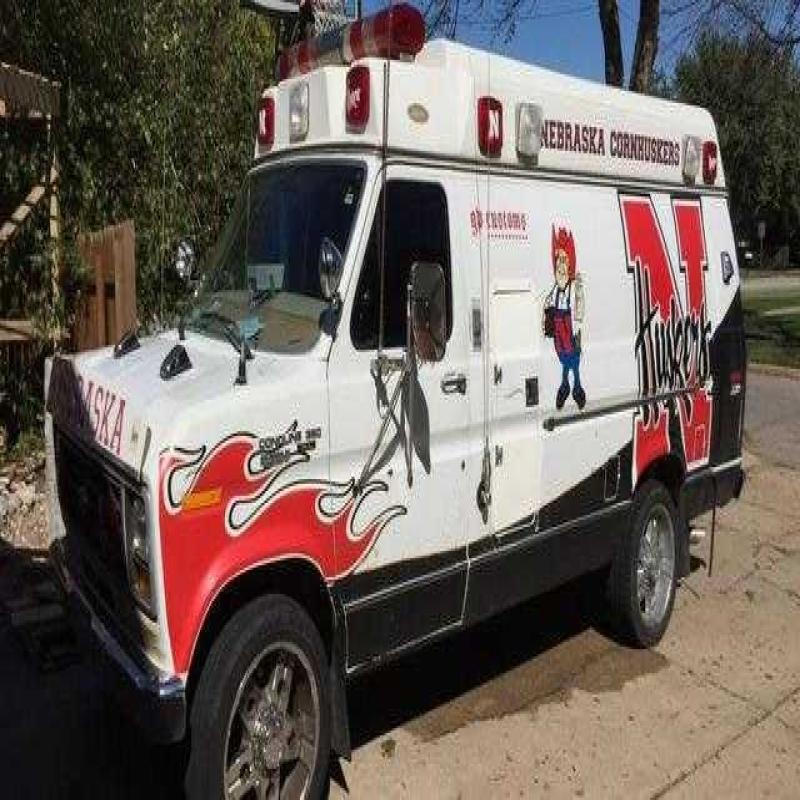AmbulanceSiren: (253, 1, 437, 92)
